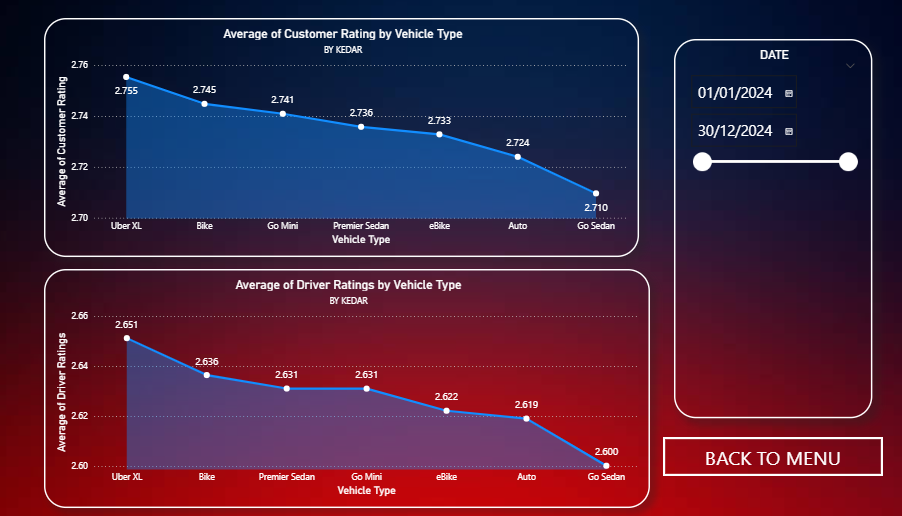

Layout of this report page (visuals, bound fields, positions):
{"tool":"powerbi","page":{"name":"Page 4","canvas":[1280,720],"ordinal":3},"visuals":[{"type":"areaChart","fields":{"Category":["ncr_ride_bookings.Vehicle Type"],"Y":["Avg(ncr_ride_bookings.Customer Rating)"]},"box":[85.3,31.7,818.9,328.9],"z":0},{"type":"areaChart","fields":{"Category":["ncr_ride_bookings.Vehicle Type"],"Y":["Avg(ncr_ride_bookings.Driver Ratings)"]},"box":[85.3,377.1,834.1,328.9],"z":1000},{"type":"slicer","title":"DATE","fields":{"Values":["ncr_ride_bookings.Date"]},"box":[952.4,60.6,272.5,521.6],"z":2000},{"type":"actionButton","box":[937.3,608.3,302.8,53.7],"z":3000}]}

Visuals, with their boxes in screenshot pixels (x1, y1, x2, y2), scaled from the page's 1280x720 canvas onto the 902x516 screenshot:
areaChart - ncr_ride_bookings.Vehicle Type x Avg(ncr_ride_bookings.Customer Rating): bbox=(60, 23, 637, 258)
areaChart - ncr_ride_bookings.Vehicle Type x Avg(ncr_ride_bookings.Driver Ratings): bbox=(60, 270, 648, 506)
"DATE" slicer: bbox=(671, 43, 863, 417)
actionButton: bbox=(661, 436, 874, 474)
